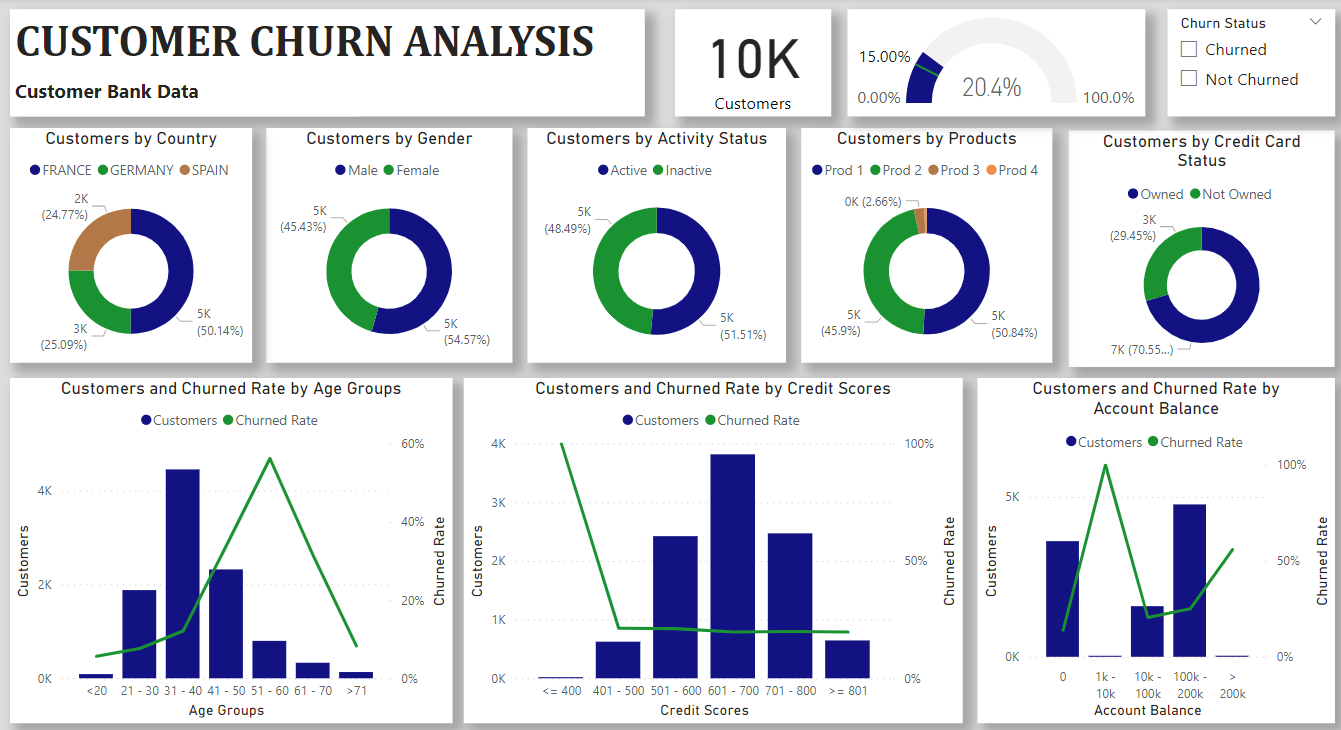

The page's visual inventory and layout, read from the dashboard file:
{"tool":"powerbi","page":{"name":"Page 1","canvas":[1320,720],"ordinal":0},"visuals":[{"type":"card","fields":{"Values":["Customer Data.Customers"]},"box":[660.1,11,152.8,105.1],"z":0},{"type":"textbox","box":[9.8,11,621,105.1],"z":1},{"type":"donutChart","fields":{"Category":["Customer Data.Gender"],"Y":["Customer Data.Customers"]},"box":[260.4,127.1,240.8,229.8],"z":4},{"type":"donutChart","fields":{"Y":["Customer Data.Customers"],"Category":["Customer Data.Activity Status"]},"box":[515.9,127.1,253,229.8],"z":5},{"type":"donutChart","fields":{"Y":["Customer Data.Customers"],"Category":["Customer Data.Credit Card Status"]},"box":[1045.2,129.6,260.4,231],"z":6},{"type":"donutChart","fields":{"Category":["Customer Data.Country"],"Y":["Customer Data.Customers"]},"box":[9.8,127.1,237.1,229.8],"z":7},{"type":"donutChart","fields":{"Y":["Customer Data.Customers"],"Category":["Customer Data.Products"]},"box":[783.6,127.1,245.7,229.8],"z":8},{"type":"lineClusteredColumnComboChart","fields":{"Category":["Age Groups.Age Groups"],"Y":["Customer Data.Customers"],"Y2":["Customer Data.Churned Rate"]},"box":[9.8,371.6,432.7,337.4],"z":9},{"type":"lineClusteredColumnComboChart","fields":{"Y":["Customer Data.Customers"],"Y2":["Customer Data.Churned Rate"],"Category":["Credit Score Groups.Credit Scores"]},"box":[453.5,371.6,487.7,337.4],"z":10},{"type":"lineClusteredColumnComboChart","fields":{"Y":["Customer Data.Customers"],"Y2":["Customer Data.Churned Rate"],"Category":["Account Balance Groups.Account Balance"]},"box":[955.9,371.6,349.6,337.4],"z":11},{"type":"slicer","fields":{"Values":["Customer Data.Churn Status"]},"box":[1141.7,11,163.8,105.1],"z":12},{"type":"gauge","fields":{"Y":["Customer Data.Churned Rate"],"MinValue":["Min(Customer Data.Min Churn Rate)"],"MaxValue":["Max(Customer Data.Max Churn Rate)"],"TargetValue":["Max(Customer Data.Target Churn Rate)"]},"box":[828.8,11,290.9,105.1],"z":13},{"type":"textbox","box":[9.8,73.3,341.1,42.8],"z":14}]}

Visuals, with their boxes in screenshot pixels (x1, y1, x2, y2), scaled from the page's 1320x720 canvas onto the 1341x730 screenshot:
card - Customer Data.Customers: left=671, top=11, right=826, bottom=118
textbox: left=10, top=11, right=641, bottom=118
donutChart - Customer Data.Gender x Customer Data.Customers: left=265, top=129, right=509, bottom=362
donutChart - Customer Data.Customers x Customer Data.Activity Status: left=524, top=129, right=781, bottom=362
donutChart - Customer Data.Customers x Customer Data.Credit Card Status: left=1062, top=131, right=1326, bottom=366
donutChart - Customer Data.Country x Customer Data.Customers: left=10, top=129, right=251, bottom=362
donutChart - Customer Data.Customers x Customer Data.Products: left=796, top=129, right=1046, bottom=362
lineClusteredColumnComboChart - Age Groups.Age Groups x Customer Data.Customers: left=10, top=377, right=450, bottom=719
lineClusteredColumnComboChart - Customer Data.Customers x Customer Data.Churned Rate: left=461, top=377, right=956, bottom=719
lineClusteredColumnComboChart - Customer Data.Customers x Customer Data.Churned Rate: left=971, top=377, right=1326, bottom=719
slicer - Customer Data.Churn Status: left=1160, top=11, right=1326, bottom=118
gauge - Customer Data.Churned Rate x Min(Customer Data.Min Churn Rate): left=842, top=11, right=1138, bottom=118
textbox: left=10, top=74, right=356, bottom=118
